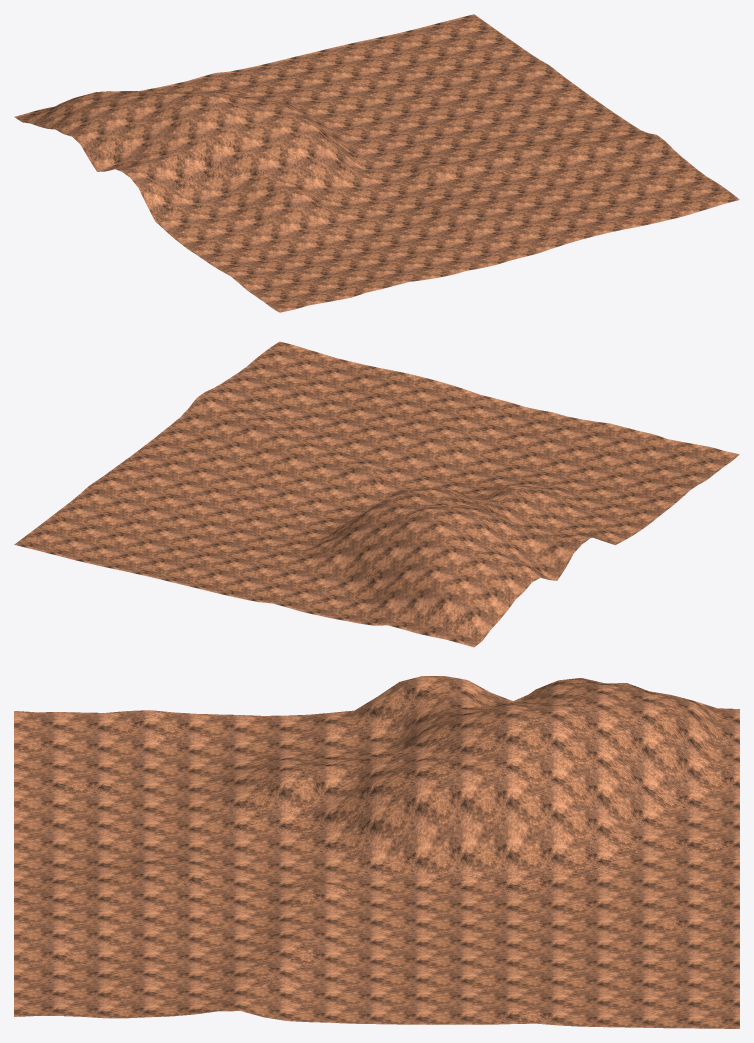
Rendered from terrain_01_07.dae.
3 renders of one model, top to bottom at view 1: azimuth 30°, elevation 25°; view 2: azimuth 150°, elevation 25°; view 3: azimuth 270°, elevation 25°, orthographic. The views are drawn at different scales.
Parts seen in each view (by area): view 1: terrain_01_07-node; view 2: terrain_01_07-node; view 3: terrain_01_07-node.
Boxes of the visible parts, box(x1,y1,x2,y2) form: terrain_01_07-node: box(14, 14, 739, 312); terrain_01_07-node: box(14, 341, 739, 647); terrain_01_07-node: box(14, 676, 739, 1028).
Size of the model in its own units: 128 by 128 by 15.66.
1 material, 1 textured.
